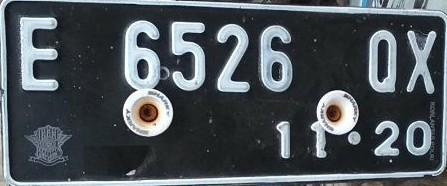clone-license-plate: (0, 0, 446, 183)
